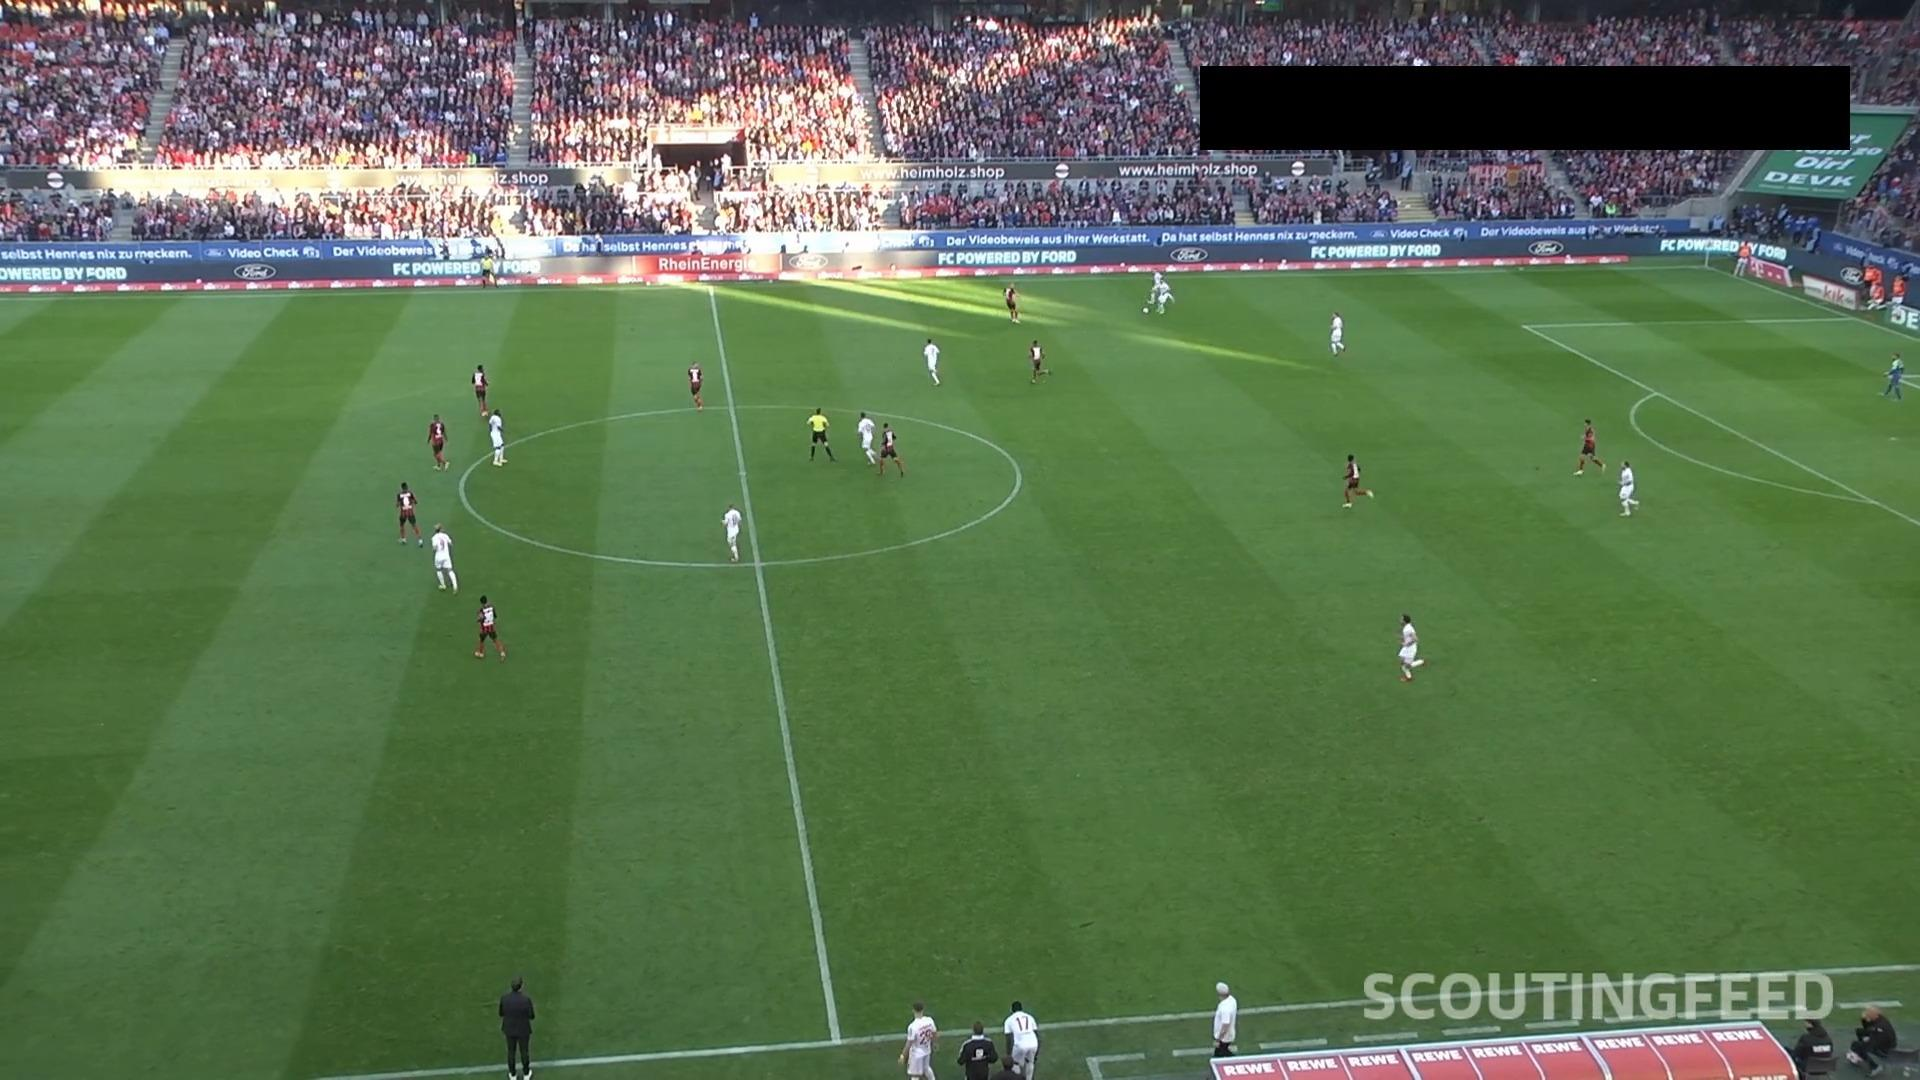ball: (1143, 306, 1150, 314)
